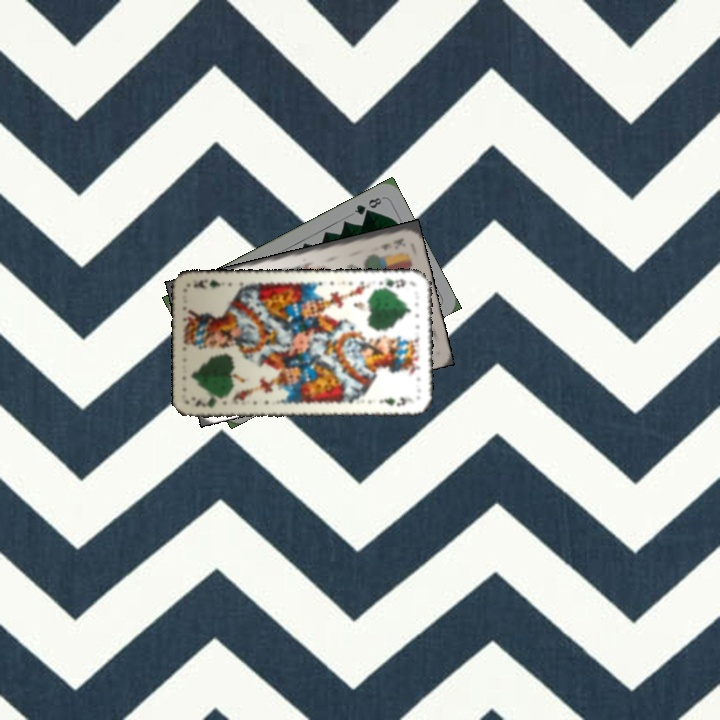EK: (376, 234, 407, 252)
G8: (350, 193, 386, 218)
GK: (375, 275, 409, 292), (190, 394, 220, 410)
